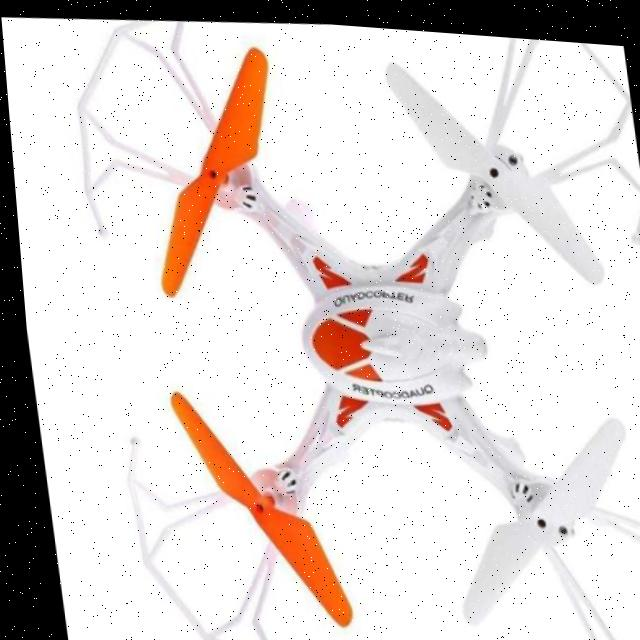drones: (47, 3, 640, 640)
